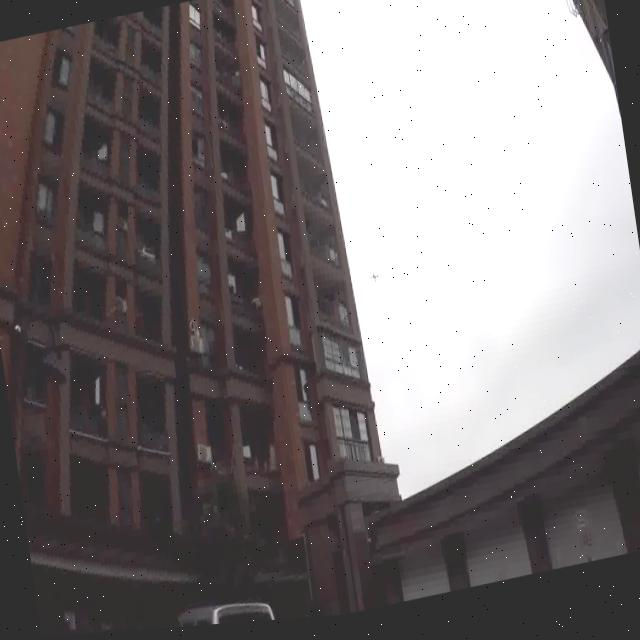drone: (368, 274, 380, 290)
